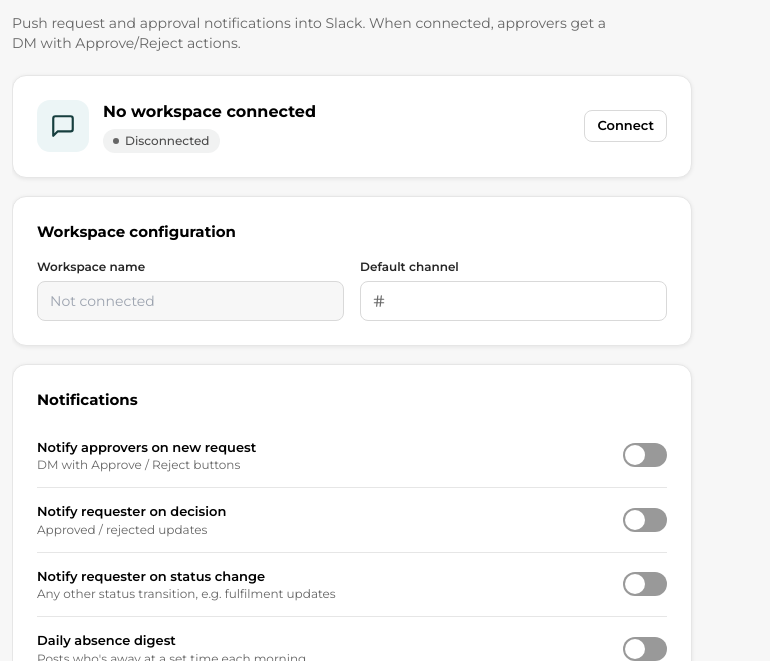
Test: Save Settings PUTs the toggled notification preferences
Expected: the text "No workspace connected" is shown, top-left (103, 102), bottom-right (316, 120)
What coordinates should you click on to do the following:
click the switch in the row of "Notify approvers on new request"
I would click on:
 (645, 455)
Its box is top-left (623, 443), bottom-right (667, 467).
(page scrolled)
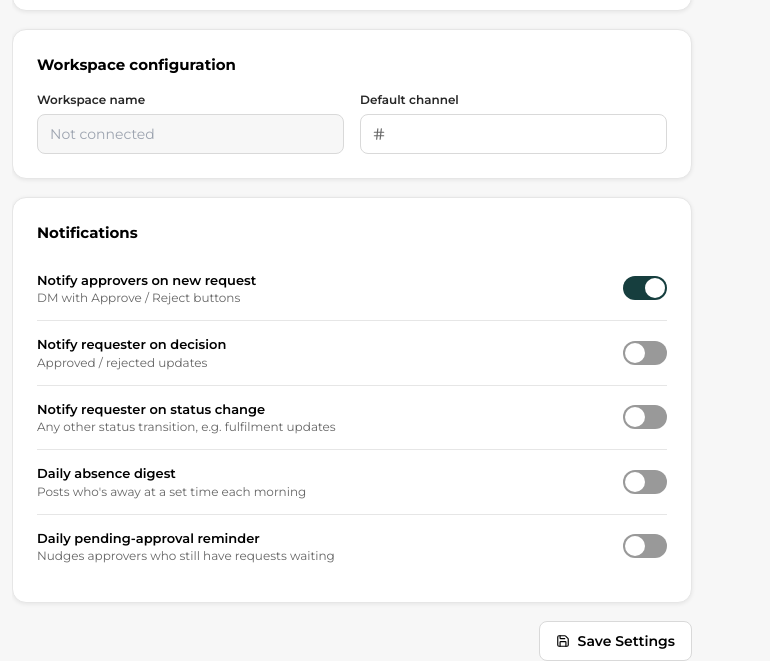
What coordinates should you click on to do the following:
click the button "Save Settings"
I would click on:
 (615, 641)
Its box is top-left (539, 621), bottom-right (692, 660).
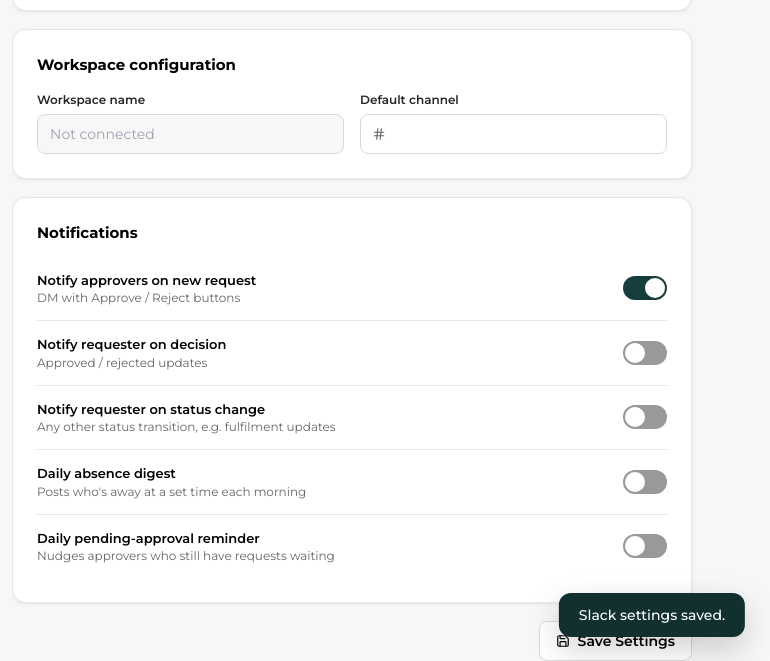
Expected: the text "Slack settings saved." is shown, top-left (559, 593), bottom-right (745, 637)
